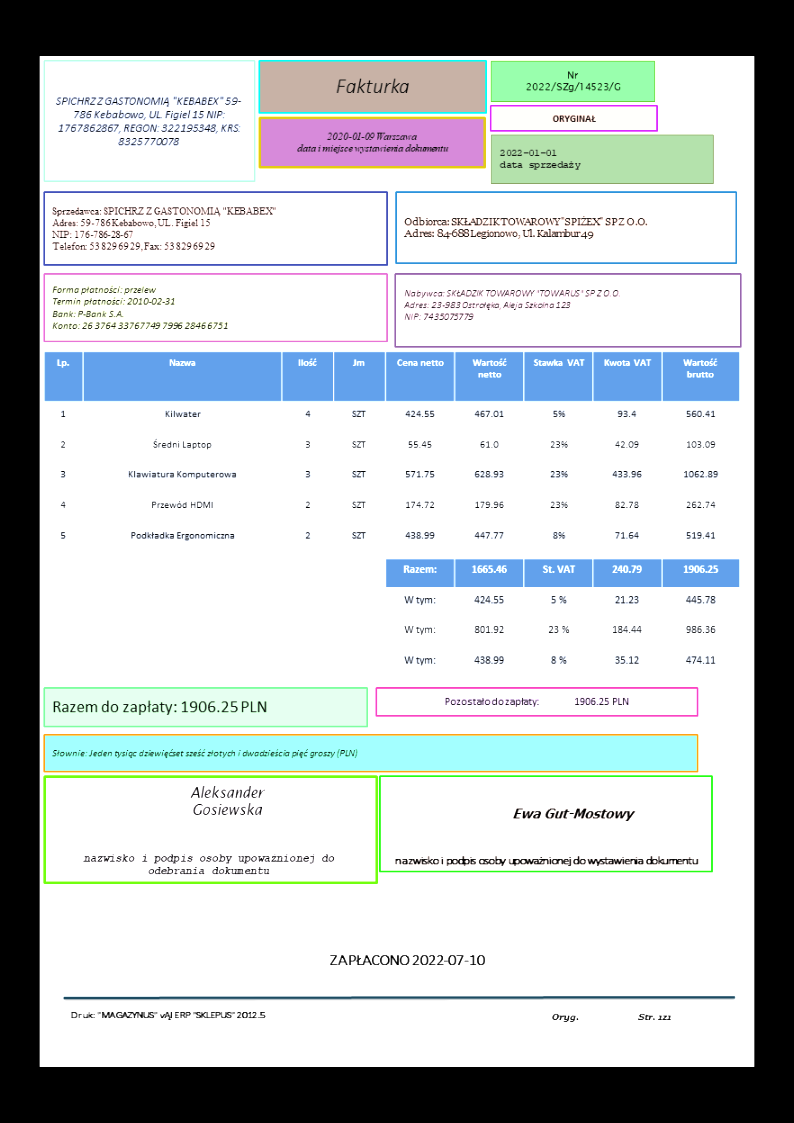Table: (42, 350, 741, 556), (384, 558, 740, 680)
TextBox: (50, 203, 279, 253), (51, 93, 243, 150), (49, 283, 230, 332), (401, 287, 622, 323), (400, 214, 648, 241), (81, 851, 335, 877), (392, 854, 699, 869), (51, 697, 268, 717), (51, 746, 359, 759), (295, 130, 450, 155), (326, 951, 487, 970), (188, 783, 269, 818), (67, 1008, 267, 1022), (510, 804, 637, 825), (443, 694, 629, 708), (523, 68, 623, 94), (498, 146, 582, 172), (548, 1010, 674, 1024), (333, 77, 410, 98), (549, 112, 598, 124)
